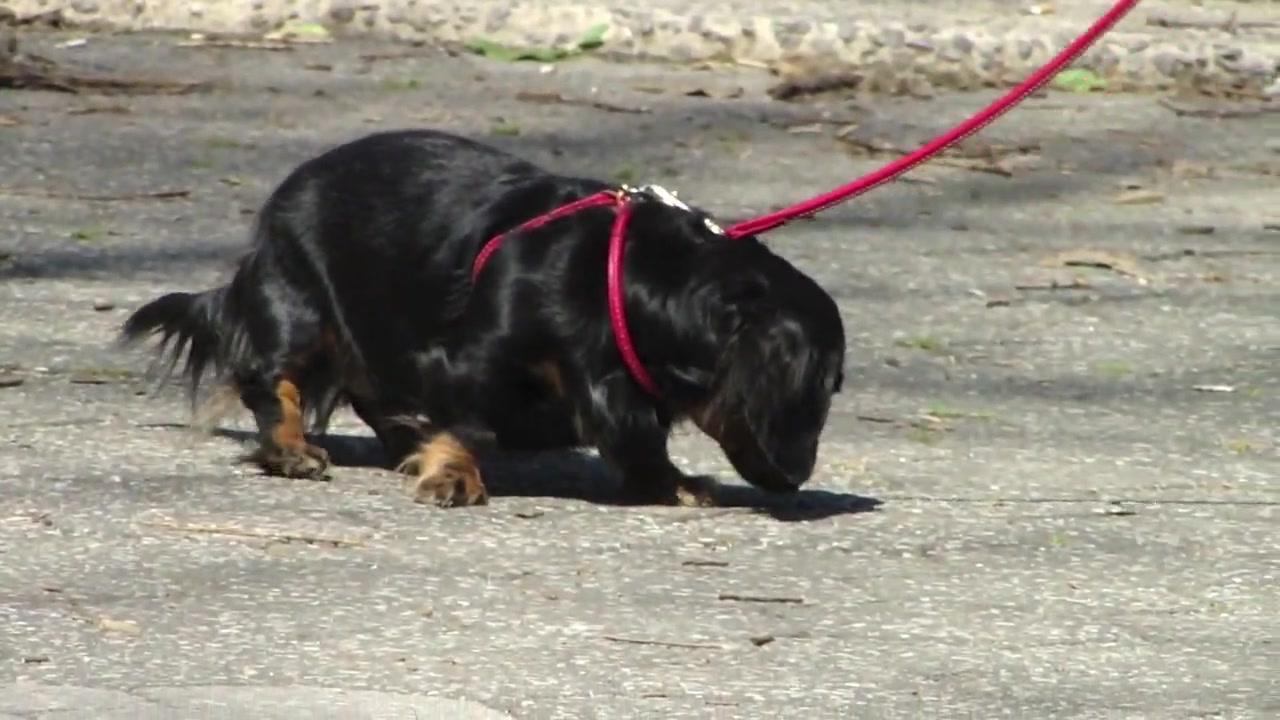dog: (113, 129, 849, 517)
